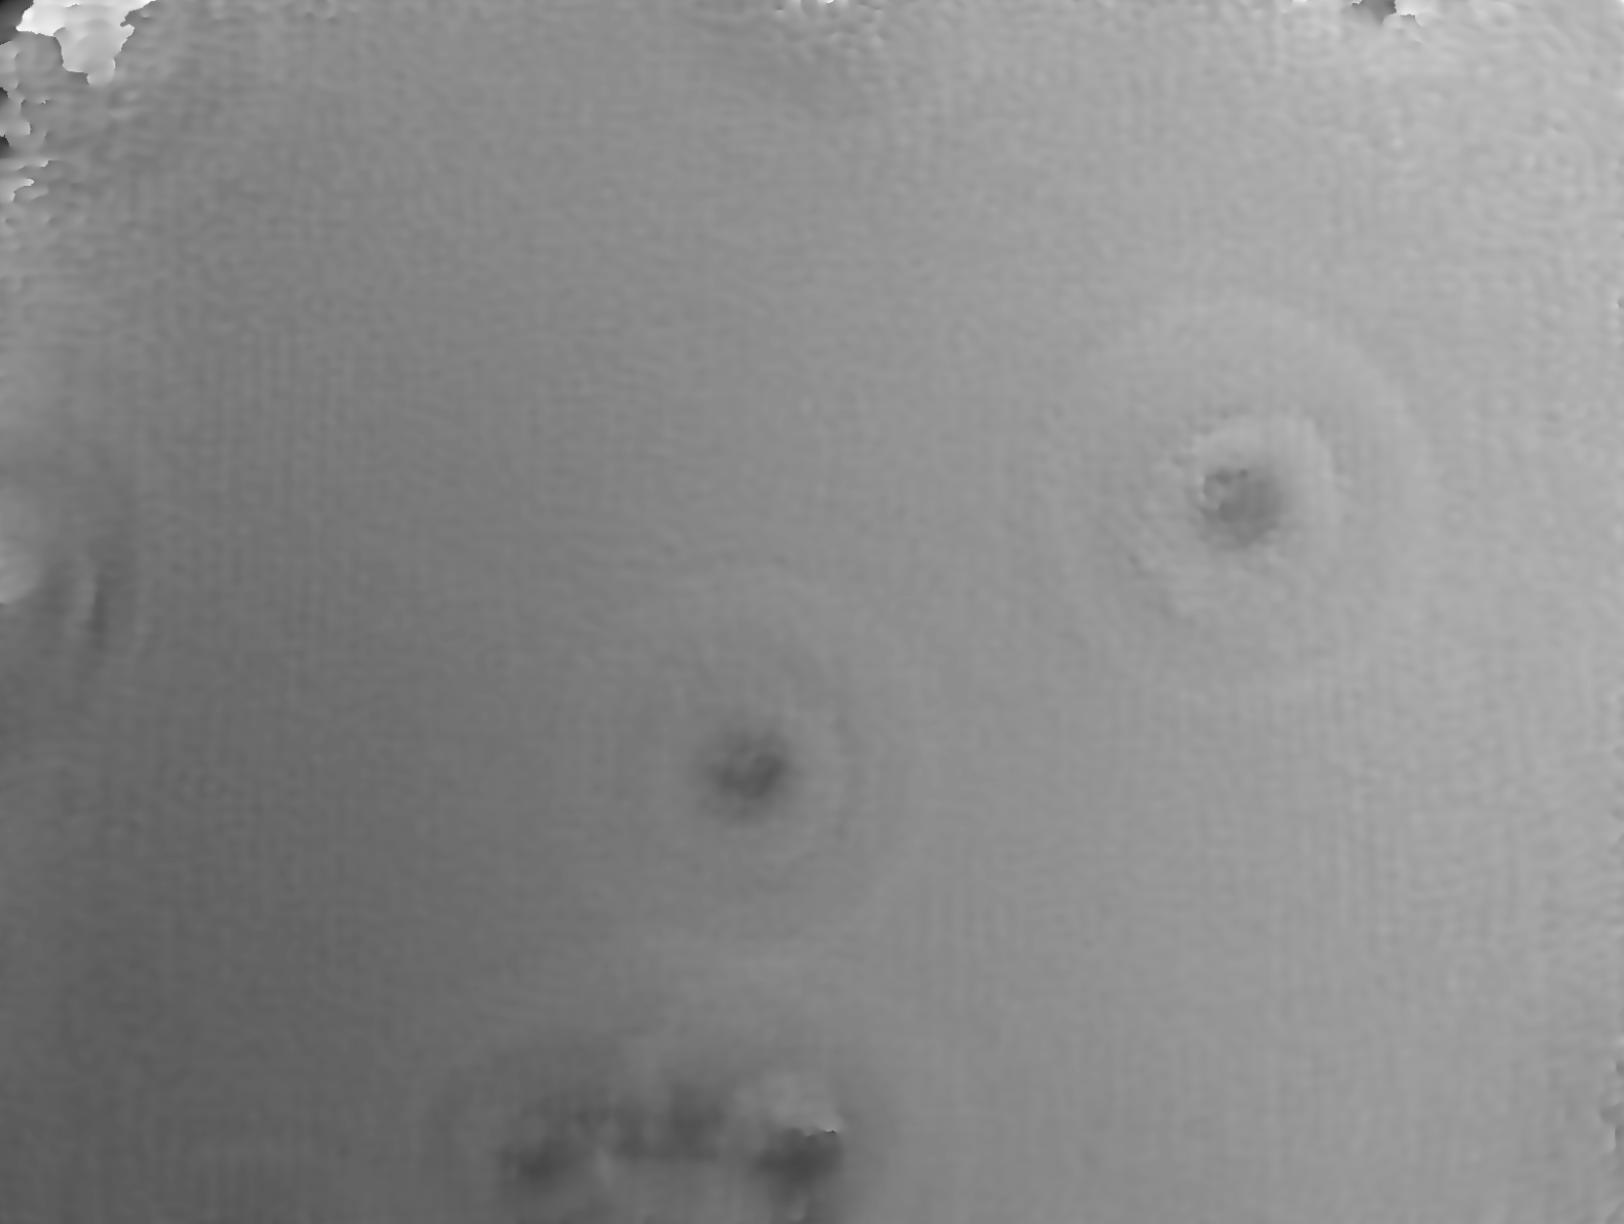cell: (584, 622, 886, 924), (1119, 374, 1372, 636)
